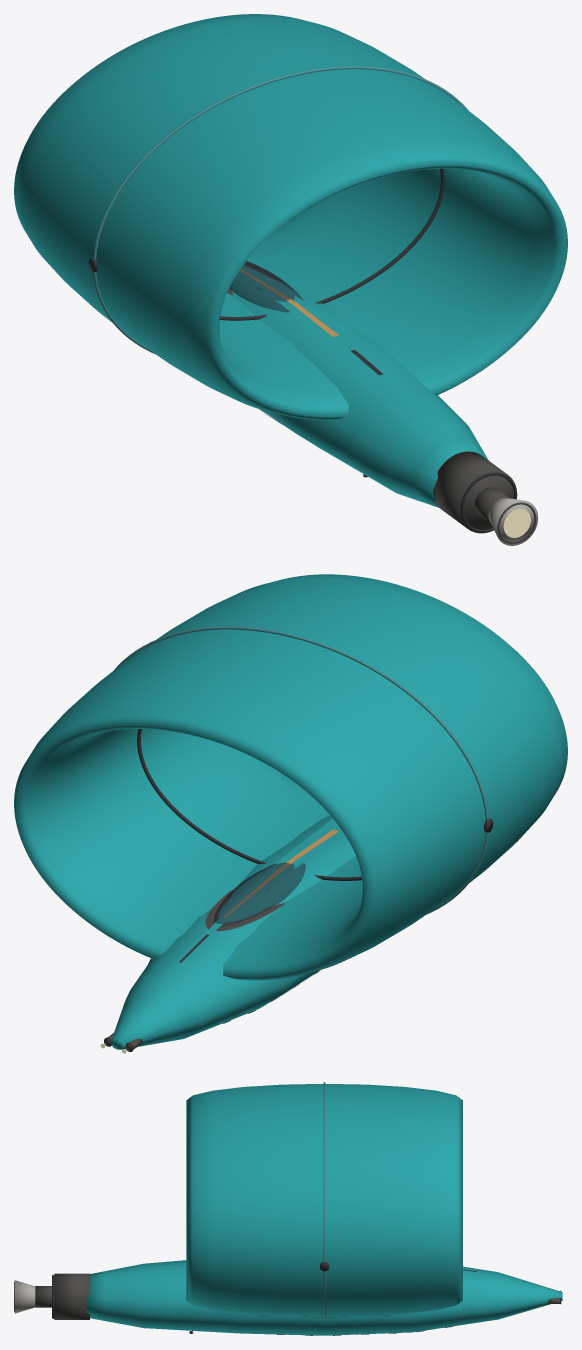
The model's file is Ship_Hooper_517819.glb.
3 views of the same model, one above another, from view 1: azimuth 30°, elevation 25°; view 2: azimuth 150°, elevation 25°; view 3: azimuth 270°, elevation 25° (orthographic). The views are drawn at different scales.
Visible parts, largest first — view 1: Hoop_MainStructuralRing_YAxisHole_ElongatedY_LowerMidpointAt, Fuselage_MainCenteredHull_CenterOfMassAtOrigin, EngineBlock_AftHullIntegratedMountPlate, Hoop_OuterArmorRaisedRim, PaintFuselage_DorsalPrimaryBlade, CanopyGlass_LowForwardPodDome, EngineBell_Center_AftHullBurnishedNozzle, Hoop_InnerLip_DarkInsetRing; view 2: Hoop_MainStructuralRing_YAxisHole_ElongatedY_LowerMidpointAt, Fuselage_MainCenteredHull_CenterOfMassAtOrigin, CanopyGlass_LowForwardPodDome, Hoop_OuterArmorRaisedRim, PaintFuselage_DorsalPrimaryBlade, Hoop_InnerLip_DarkInsetRing, CanopyFrame_LowInsetOvalRim; view 3: Hoop_MainStructuralRing_YAxisHole_ElongatedY_LowerMidpointAt, Fuselage_MainCenteredHull_CenterOfMassAtOrigin, EngineBlock_AftHullIntegratedMountPlate, Hoop_OuterArmorRaisedRim, EngineBell_Center_AftHullBurnishedNozzle, EngineThroat_Center_AftHullDarkSocket.
Part boxes in pixels (x1=…): Hoop_MainStructuralRing_YAxisHole_ElongatedY_LowerMidpointAt: x1=14, y1=14, x2=567, y2=419; Fuselage_MainCenteredHull_CenterOfMassAtOrigin: x1=230, y1=260, x2=488, y2=507; EngineBlock_AftHullIntegratedMountPlate: x1=435, y1=451, x2=517, y2=533; Hoop_OuterArmorRaisedRim: x1=93, y1=66, x2=468, y2=354; PaintFuselage_DorsalPrimaryBlade: x1=238, y1=267, x2=368, y2=353; CanopyGlass_LowForwardPodDome: x1=229, y1=261, x2=303, y2=312; EngineBell_Center_AftHullBurnishedNozzle: x1=488, y1=498, x2=538, y2=545; Hoop_InnerLip_DarkInsetRing: x1=219, y1=168, x2=444, y2=320; Hoop_MainStructuralRing_YAxisHole_ElongatedY_LowerMidpointAt: x1=14, y1=574, x2=567, y2=980; Fuselage_MainCenteredHull_CenterOfMassAtOrigin: x1=110, y1=815, x2=355, y2=1049; CanopyGlass_LowForwardPodDome: x1=213, y1=862, x2=305, y2=926; Hoop_OuterArmorRaisedRim: x1=113, y1=626, x2=488, y2=914; PaintFuselage_DorsalPrimaryBlade: x1=205, y1=819, x2=345, y2=935; Hoop_InnerLip_DarkInsetRing: x1=137, y1=729, x2=361, y2=880; CanopyFrame_LowInsetOvalRim: x1=205, y1=890, x2=284, y2=931; Hoop_MainStructuralRing_YAxisHole_ElongatedY_LowerMidpointAt: x1=186, y1=1084, x2=462, y2=1316; Fuselage_MainCenteredHull_CenterOfMassAtOrigin: x1=86, y1=1260, x2=562, y2=1335; EngineBlock_AftHullIntegratedMountPlate: x1=54, y1=1273, x2=89, y2=1319; Hoop_OuterArmorRaisedRim: x1=323, y1=1082, x2=325, y2=1318; EngineBell_Center_AftHullBurnishedNozzle: x1=14, y1=1280, x2=35, y2=1313; EngineThroat_Center_AftHullDarkSocket: x1=35, y1=1286, x2=51, y2=1307.
Bounding box in the file's own units: 3.81 × 3.02 × 6.71.
